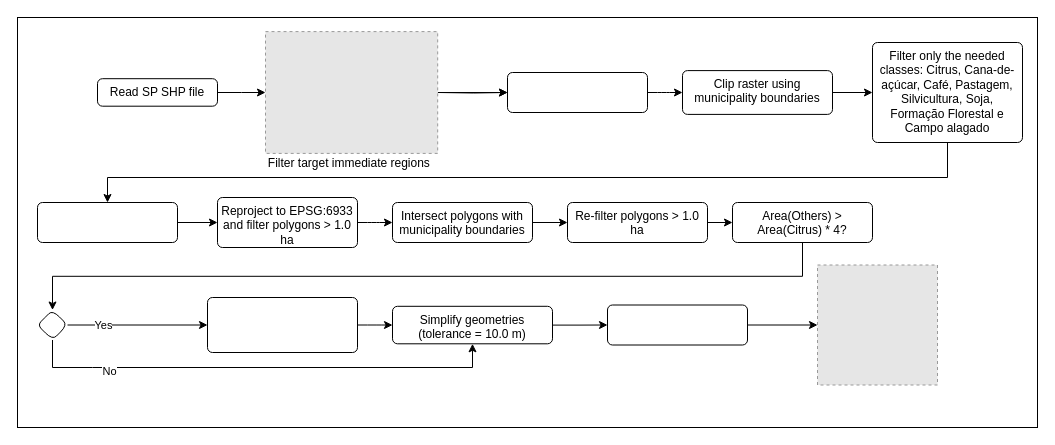
The diagram is 1055 pixels wide and 445 high, and some of its shapes have lost their labels. Grey dashed boxes stand in for pictures. Each missing label, with the box of its shape:
Downsample 'Others' to 1:4 area ratio, preserving internal class proportions: (206, 296, 358, 352)
Read TIF file with all agriculture cultures: (506, 72, 648, 112)
Reproject to EPSG:4326 & Export GPKG: (606, 304, 748, 345)
Vectorize raster into polygons: (36, 202, 178, 242)
